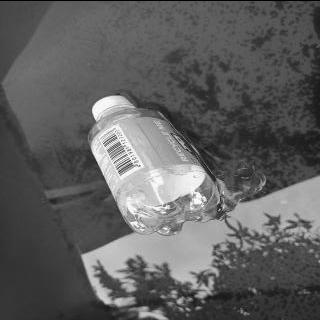bottle: (86, 92, 223, 235)
